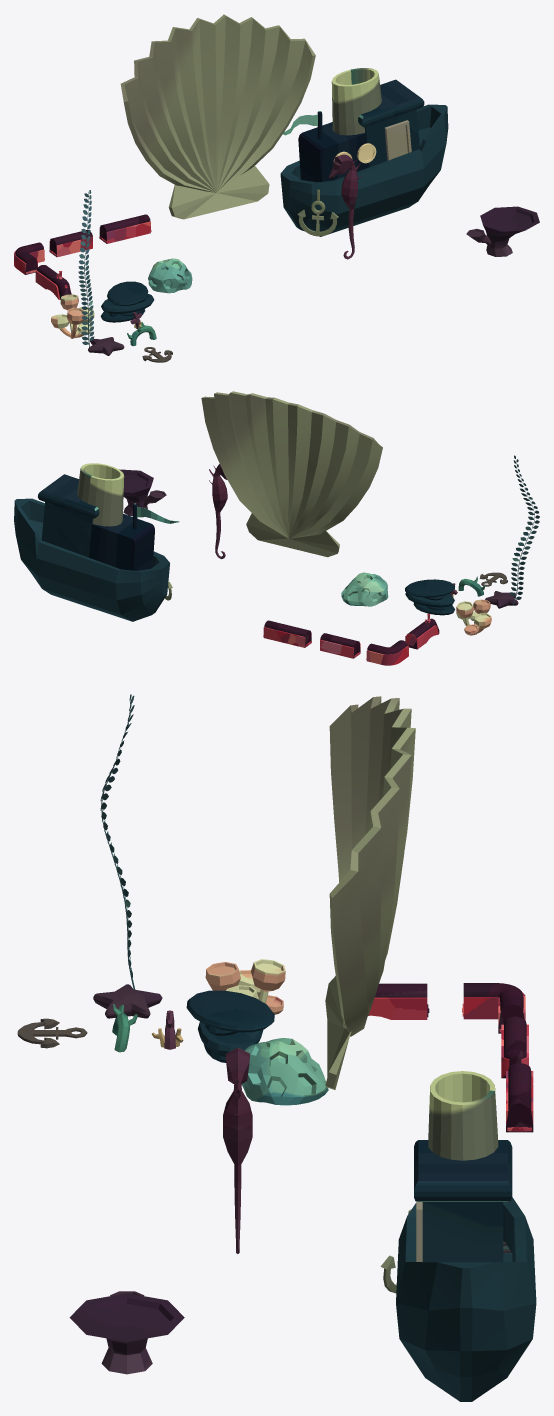
Rendered from All_Assets.fbx.
3 views of the same model, one above another, from view 1: azimuth 30°, elevation 25°; view 2: azimuth 150°, elevation 25°; view 3: azimuth 270°, elevation 25° (orthographic). The views are drawn at different scales.
Visible parts, largest first — view 1: Shell, Boat, PondTree, RocksColumn, Leaves, Moss, Seahorse, Massif, SM_TrainStraight, SM_TrainBack, SM_Train Turn, SM_TrainFront (+1 smaller); view 2: Shell, Boat, RocksColumn, Moss, PondTree, Leaves, Massif, SM_TrainStraight, SM_Train Turn, Seahorse, SM_TrainBack, SM_TrainFront (+1 smaller); view 3: Boat, Shell, PondTree, Moss, RocksColumn, Seahorse, Massif, SM_Train Turn, SM_TrainFront, SM_TrainStraight, StarFish, SM_TrainBack (+2 smaller).
Part boxes in pixels (x1,y1,x2,y2): Shell: (120, 14, 315, 219); Boat: (280, 68, 448, 236); PondTree: (466, 206, 539, 256); RocksColumn: (100, 281, 154, 322); Leaves: (78, 190, 94, 347); Moss: (148, 258, 192, 293); Seahorse: (328, 154, 362, 259); Massif: (51, 294, 94, 338); SM_TrainStraight: (99, 214, 151, 243); SM_TrainBack: (49, 230, 92, 257); SM_Train Turn: (14, 242, 44, 274); SM_TrainFront: (35, 265, 71, 299); Shell: (201, 391, 382, 557); Boat: (14, 463, 179, 621); RocksColumn: (405, 579, 454, 615); Moss: (341, 572, 388, 606); PondTree: (119, 469, 166, 516); Leaves: (510, 455, 539, 605); Massif: (456, 599, 491, 635); SM_TrainStraight: (263, 620, 311, 647); SM_Train Turn: (366, 640, 408, 665); Seahorse: (209, 464, 227, 559); SM_TrainBack: (320, 633, 360, 658); SM_TrainFront: (405, 613, 439, 649); Boat: (380, 1071, 536, 1401); Shell: (325, 696, 415, 1089); PondTree: (69, 1291, 184, 1374); Moss: (241, 1038, 328, 1105); RocksColumn: (186, 990, 274, 1062); Seahorse: (223, 1047, 252, 1253); Massif: (205, 959, 285, 1014); SM_Train Turn: (462, 983, 525, 1033); SM_TrainFront: (368, 983, 429, 1019); SM_TrainStraight: (506, 1063, 533, 1132); StarFish: (93, 984, 162, 1018); SM_TrainBack: (501, 1016, 528, 1078).
Size of the model in its own units: 971 by 519 by 503.
Materials: 2 (2 with a texture image).
